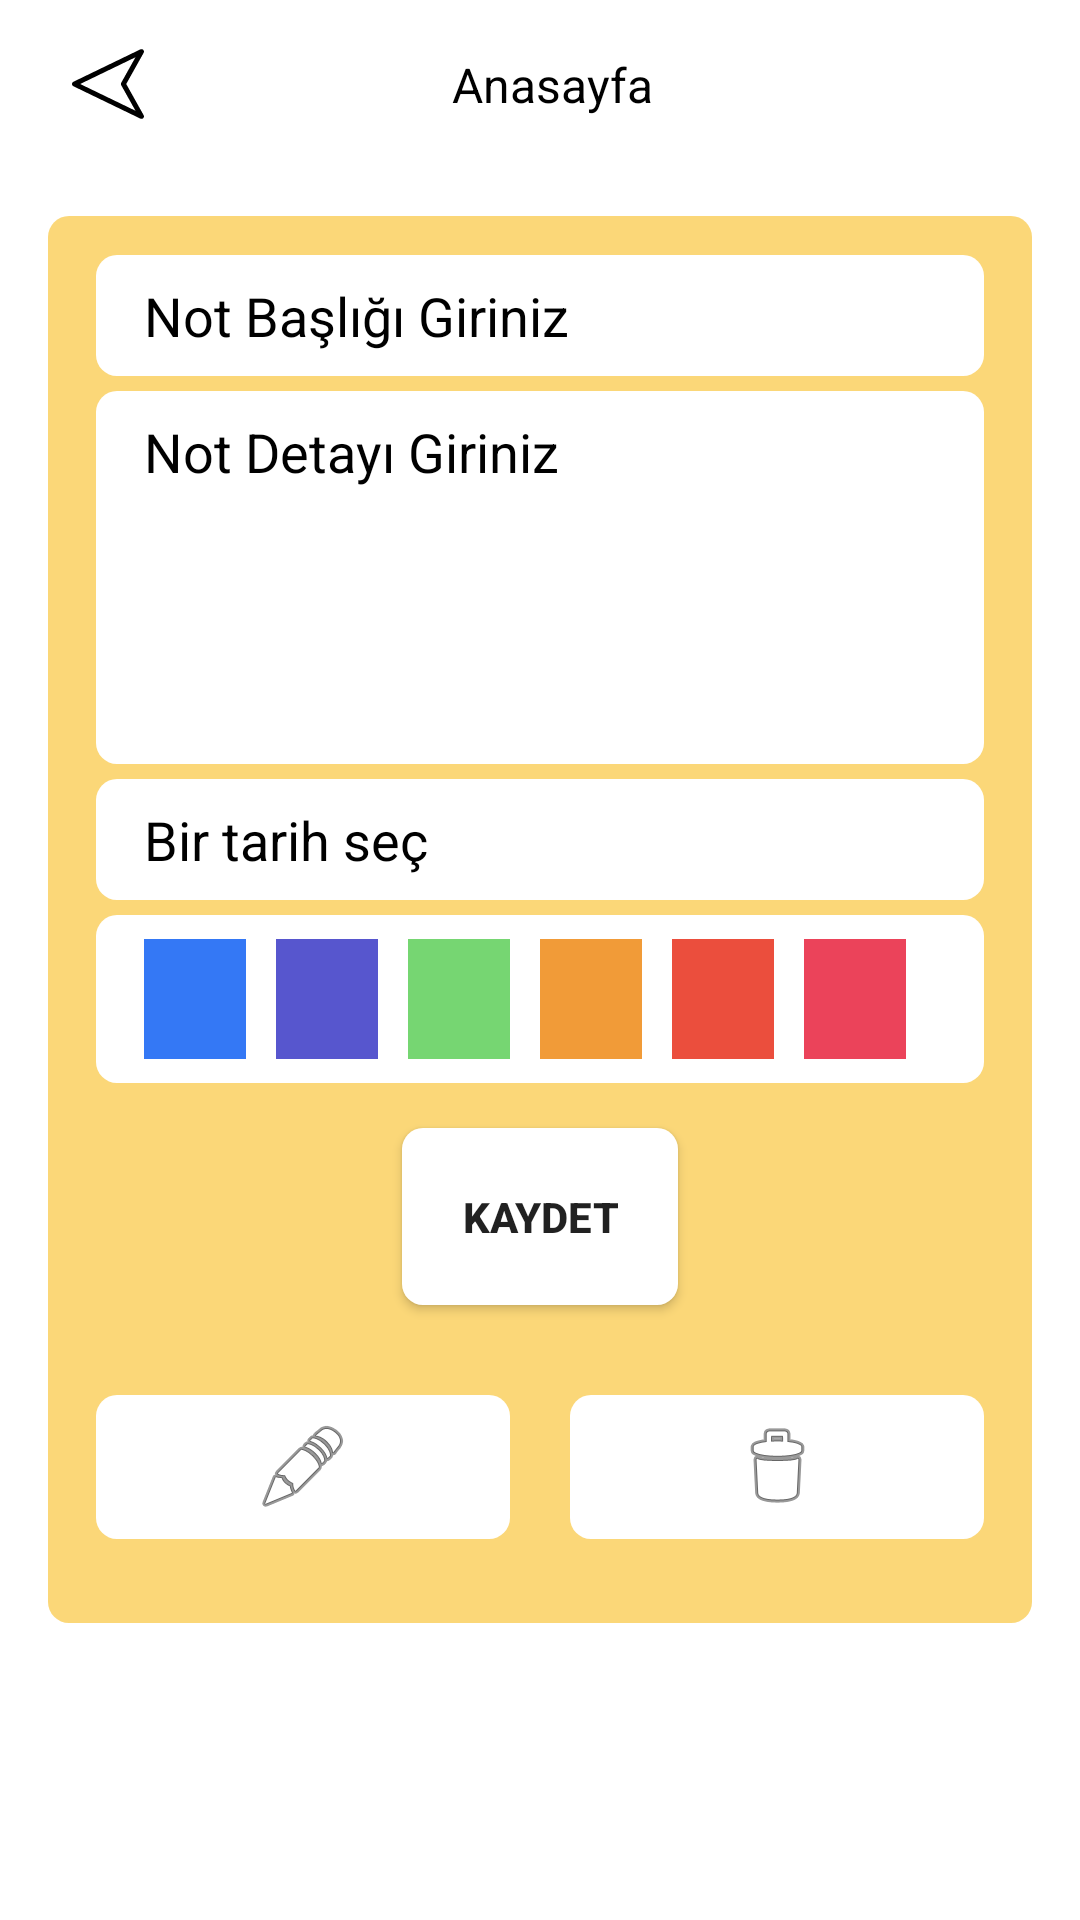

Named icons in this screenshot (1080w x 1920h) and their centers, [x,y]:
left arrow: [108,84]
